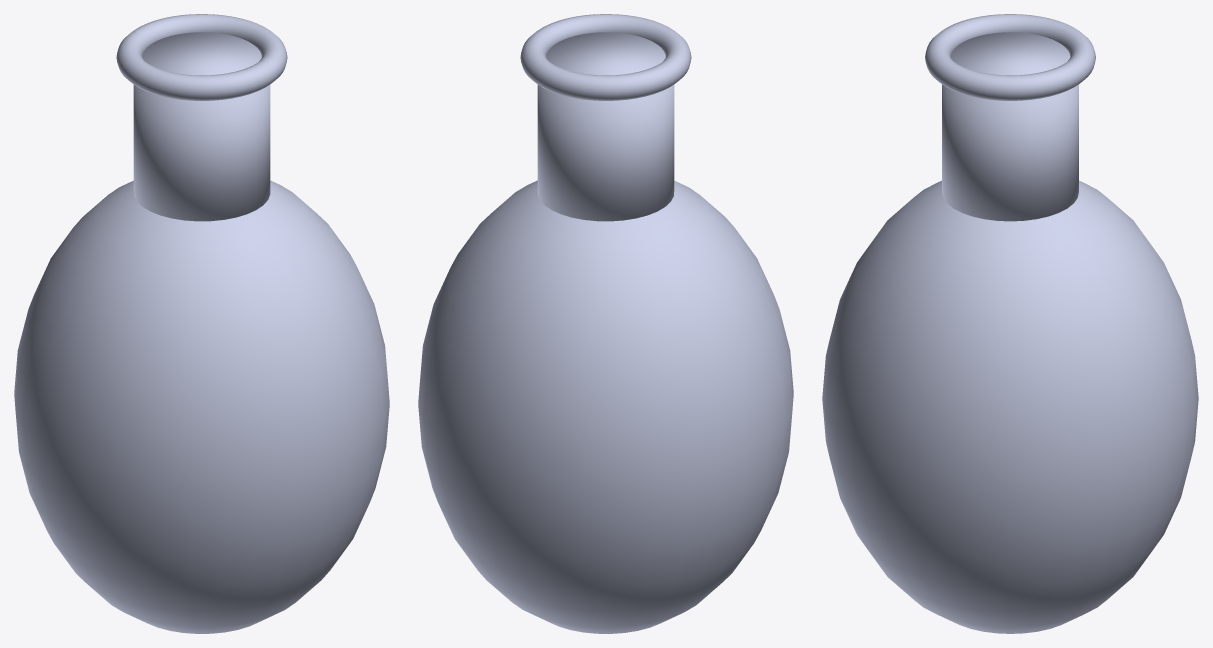
File: vase.glb
3 views of the same model, side by side, from view 1: azimuth 30°, elevation 25°; view 2: azimuth 150°, elevation 25°; view 3: azimuth 270°, elevation 25° (orthographic).
Visible parts, largest first — view 1: body.001, neck, lip; view 2: body.001, neck, lip; view 3: body.001, neck, lip.
Boxes of the visible parts, <box> form: body.001: <box>14,180,389,633</box>; neck: <box>133,32,270,221</box>; lip: <box>116,14,287,100</box>; body.001: <box>418,180,793,633</box>; neck: <box>537,32,674,221</box>; lip: <box>520,14,691,100</box>; body.001: <box>822,180,1198,633</box>; neck: <box>942,32,1078,221</box>; lip: <box>925,14,1095,100</box>.
Bounding box in the file's own units: 0.44 × 0.741 × 0.44.
